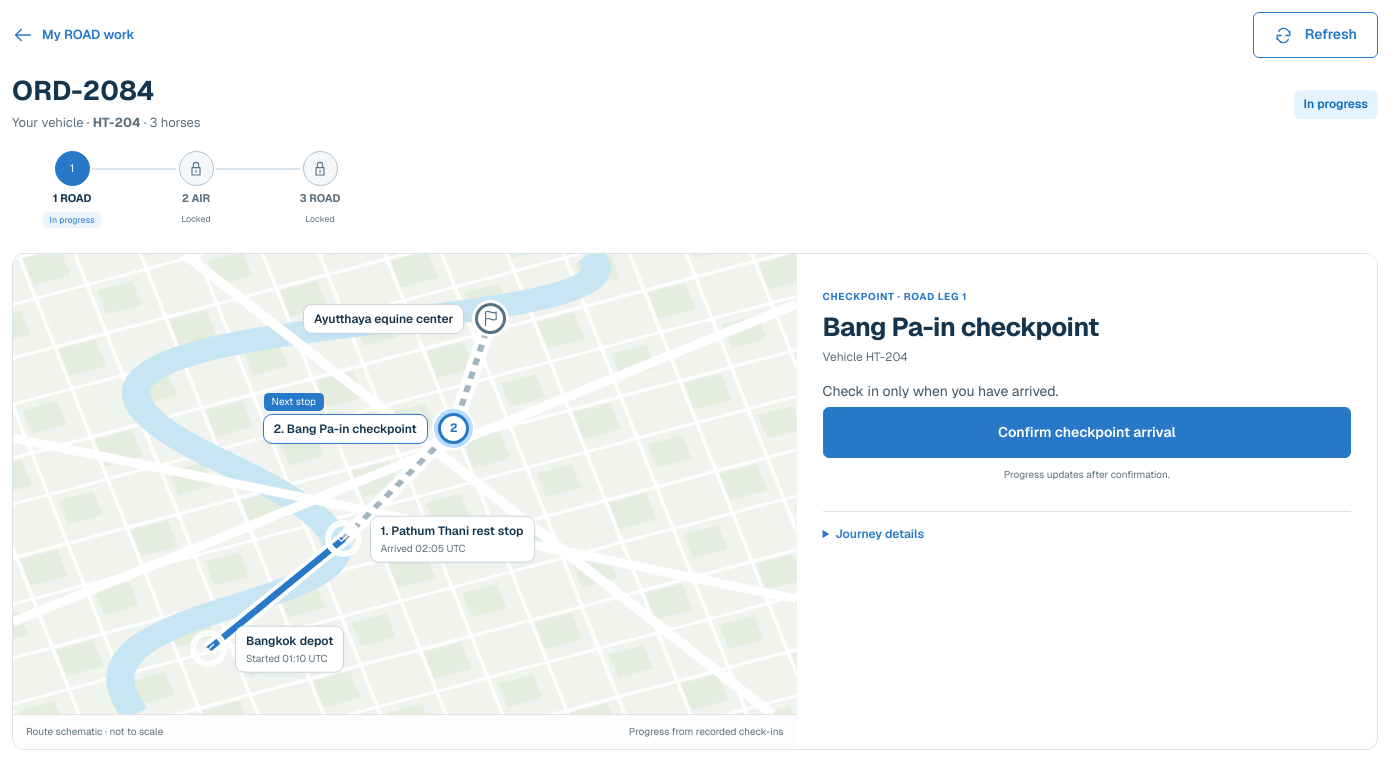
Driver execution components › selecting an unreached destination does not expose a premature arrival action
The image size is (1390, 780).
What coordinates should you click on to do the following:
click the button with aria-label "Destination: Ayutthaya"
I would click on:
 (490, 319)
Its box is [468,297,512,341].
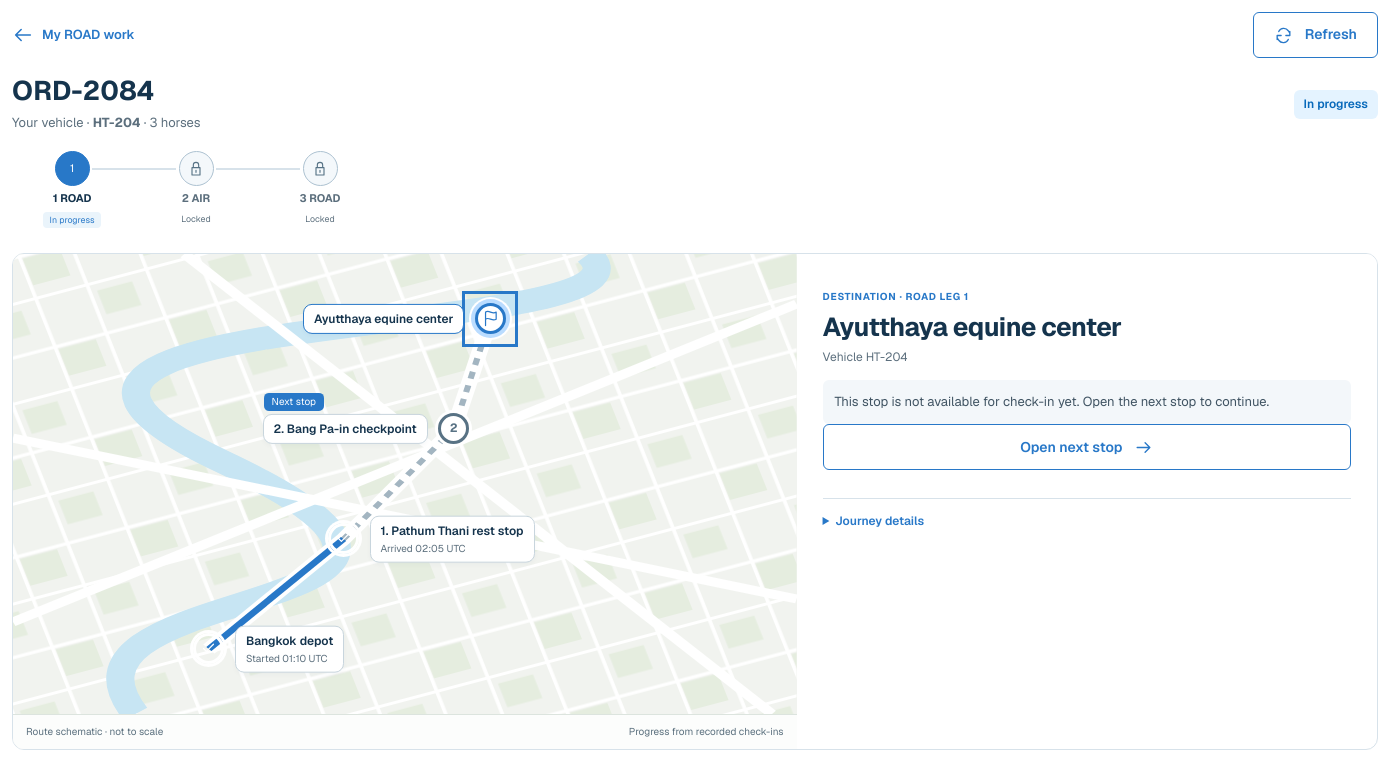
Check: the button "Open next stop" is shown, box [823,424,1351,470]
